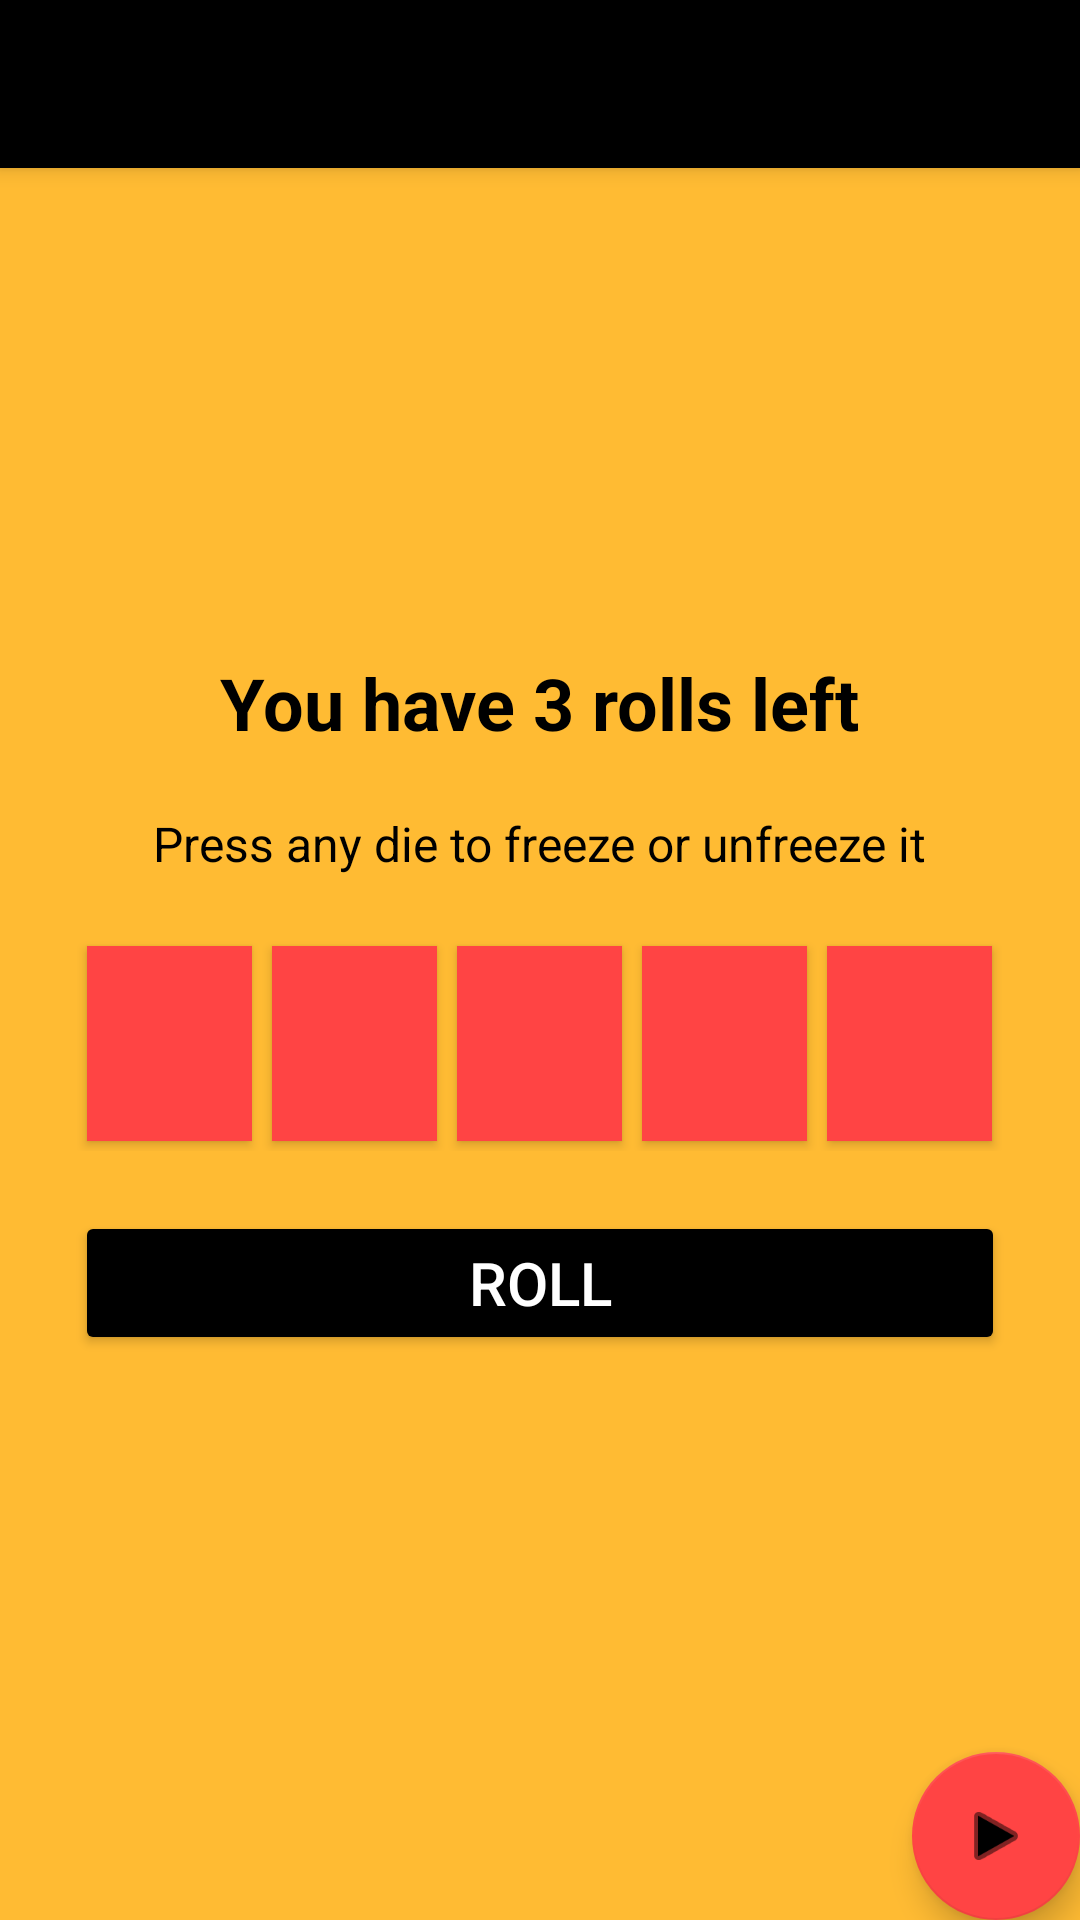

Icons on this 1080 x 1920 Android screen, each with its box as detection(x1, y1, x2, y2):
play: detection(912, 1752, 1080, 1920)
